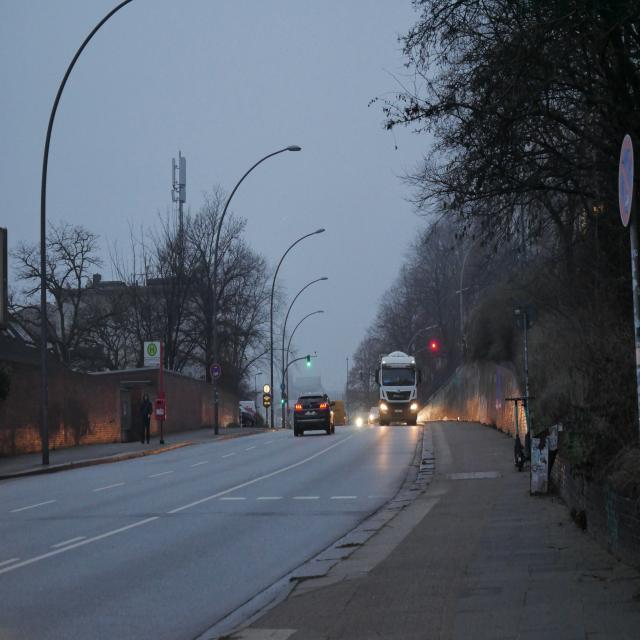adult: (139, 393, 152, 443)
